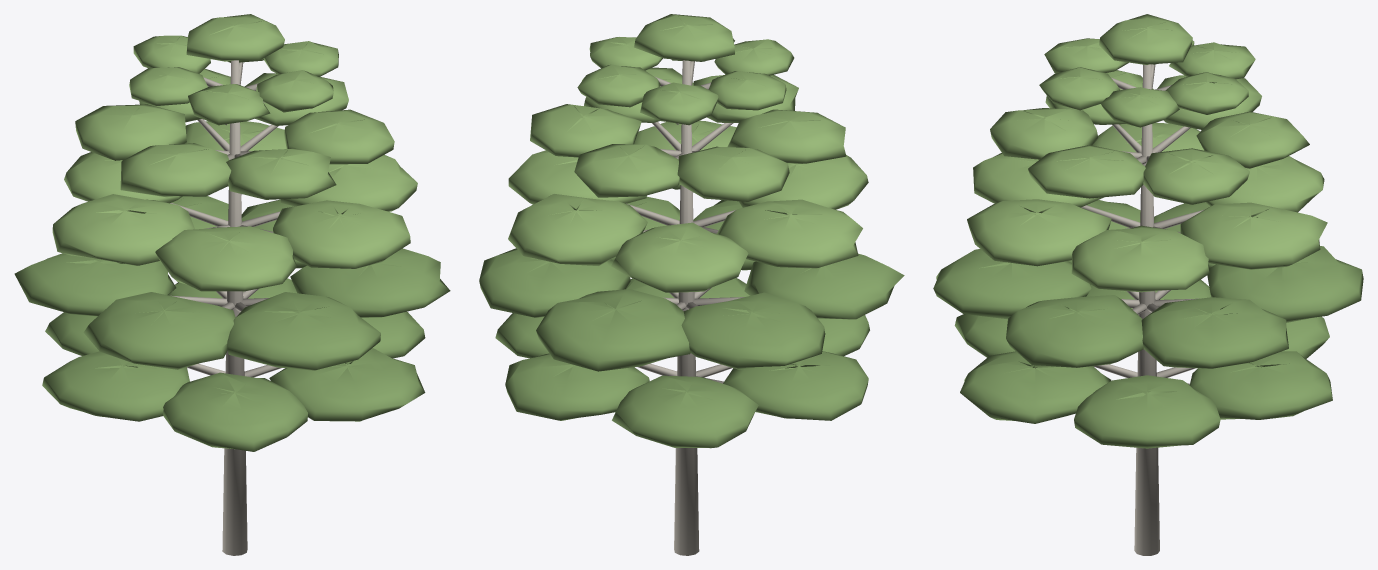
File: terminalia.glb
3 views of the same model, side by side, from view 1: azimuth 30°, elevation 25°; view 2: azimuth 150°, elevation 25°; view 3: azimuth 270°, elevation 25° (orthographic).
Visible parts, largest first — view 1: terminalia_canopy_terminalia, terminalia_canopy_terminalia_shade, terminalia_canopy_bark_pale; view 2: terminalia_canopy_terminalia, terminalia_canopy_terminalia_shade, terminalia_canopy_bark_pale; view 3: terminalia_canopy_terminalia, terminalia_canopy_terminalia_shade, terminalia_canopy_bark_pale.
Boxes of the visible parts, bbox=[...] form: terminalia_canopy_terminalia: bbox=[52, 14, 417, 291]; terminalia_canopy_terminalia_shade: bbox=[14, 196, 450, 451]; terminalia_canopy_bark_pale: bbox=[170, 60, 311, 555]; terminalia_canopy_terminalia: bbox=[508, 14, 868, 292]; terminalia_canopy_terminalia_shade: bbox=[479, 196, 904, 448]; terminalia_canopy_bark_pale: bbox=[626, 60, 744, 555]; terminalia_canopy_terminalia: bbox=[967, 14, 1327, 292]; terminalia_canopy_terminalia_shade: bbox=[933, 200, 1363, 448]; terminalia_canopy_bark_pale: bbox=[1081, 64, 1204, 555].
Bounding box in the file's own units: 10.62 × 15.33 × 11.42.
